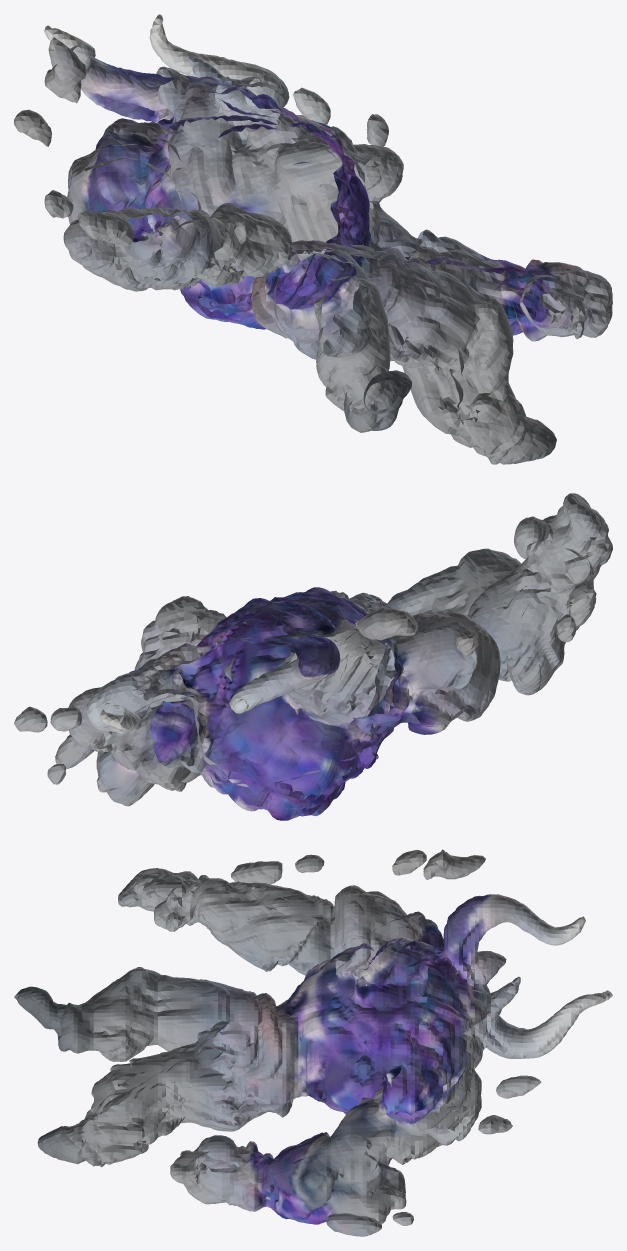
The model's file is boss_astral_titan.glb.
3 views of the same model, one above another, from view 1: azimuth 30°, elevation 25°; view 2: azimuth 150°, elevation 25°; view 3: azimuth 270°, elevation 25° (orthographic). The views are drawn at different scales.
Parts seen in each view (by area): view 1: geometry_0; view 2: geometry_0; view 3: geometry_0.
Part boxes in pixels (x1=…): geometry_0: x1=14, y1=14, x2=612, y2=464; geometry_0: x1=14, y1=493, x2=612, y2=820; geometry_0: x1=14, y1=849, x2=612, y2=1236.
Bounding box in the file's own units: 0.7772 × 0.4668 × 1.02.
